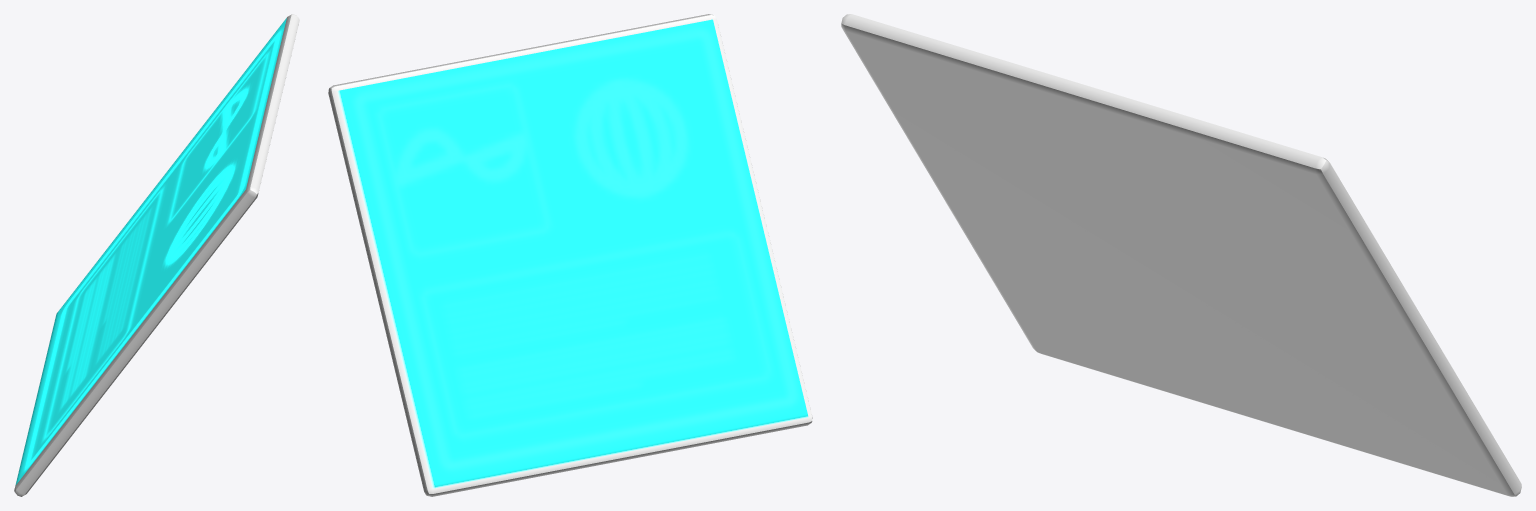
File: BridgeSingleScreen_03.fbx
3 renders of one model, left to right at view 1: azimuth 30°, elevation 25°; view 2: azimuth 150°, elevation 25°; view 3: azimuth 270°, elevation 25°, orthographic. The views are drawn at different scales.
Visible parts, largest first — view 1: Bridge_SingleScreen_03; view 2: Bridge_SingleScreen_03; view 3: Bridge_SingleScreen_03.
Part boxes in pixels (x1,y1,x2,y2): Bridge_SingleScreen_03: [14, 14, 299, 496]; Bridge_SingleScreen_03: [328, 14, 812, 496]; Bridge_SingleScreen_03: [841, 14, 1521, 496].
Size of the model in its own units: 316 by 252 by 344.
